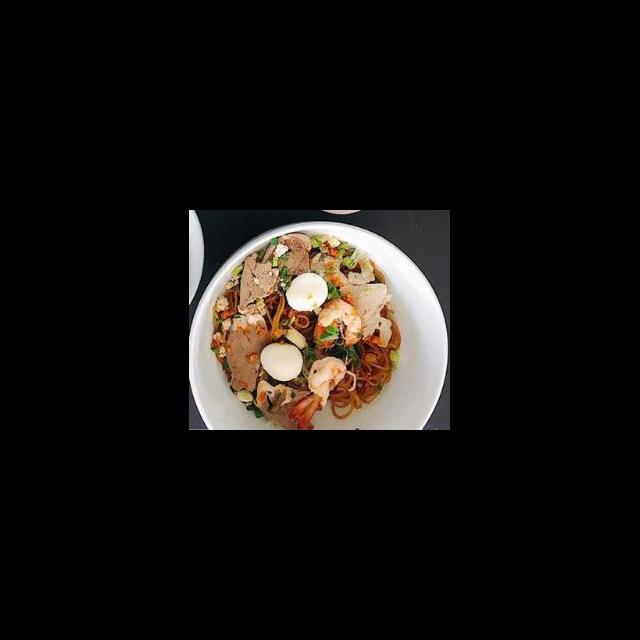banh hu tieu: (328, 305, 404, 422)
gan: (232, 253, 282, 312)
hu tieu: (196, 223, 447, 430)
thit bam: (210, 291, 233, 359)
thit heo: (338, 279, 396, 349), (223, 311, 270, 395), (253, 377, 320, 430)
tom: (286, 354, 350, 430), (314, 295, 366, 352)
trung: (284, 269, 332, 313), (258, 340, 306, 383)
